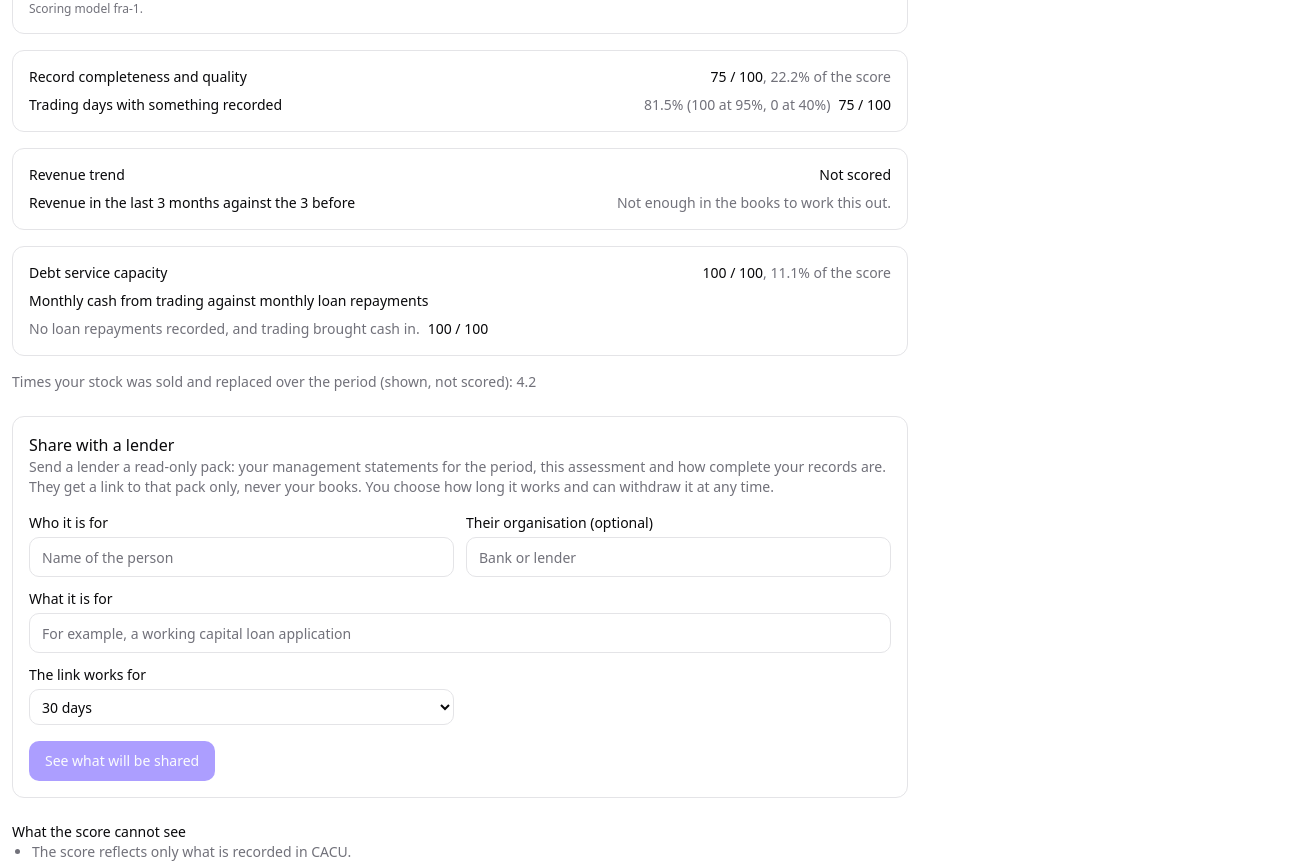
FRA-007: the owner names who and why, sees exactly what will be shared, agrees, and gets the link once
This screenshot has width=1292, height=862.
(page scrolled)
Expected: the button "See what will be shared" is disabled, x1=29 y1=741 x2=215 y2=781
Type "Amaka Obi" into the field labelled "Who it is for" at {"x": 242, "y": 557}, box x1=29 y1=537 x2=454 y2=577
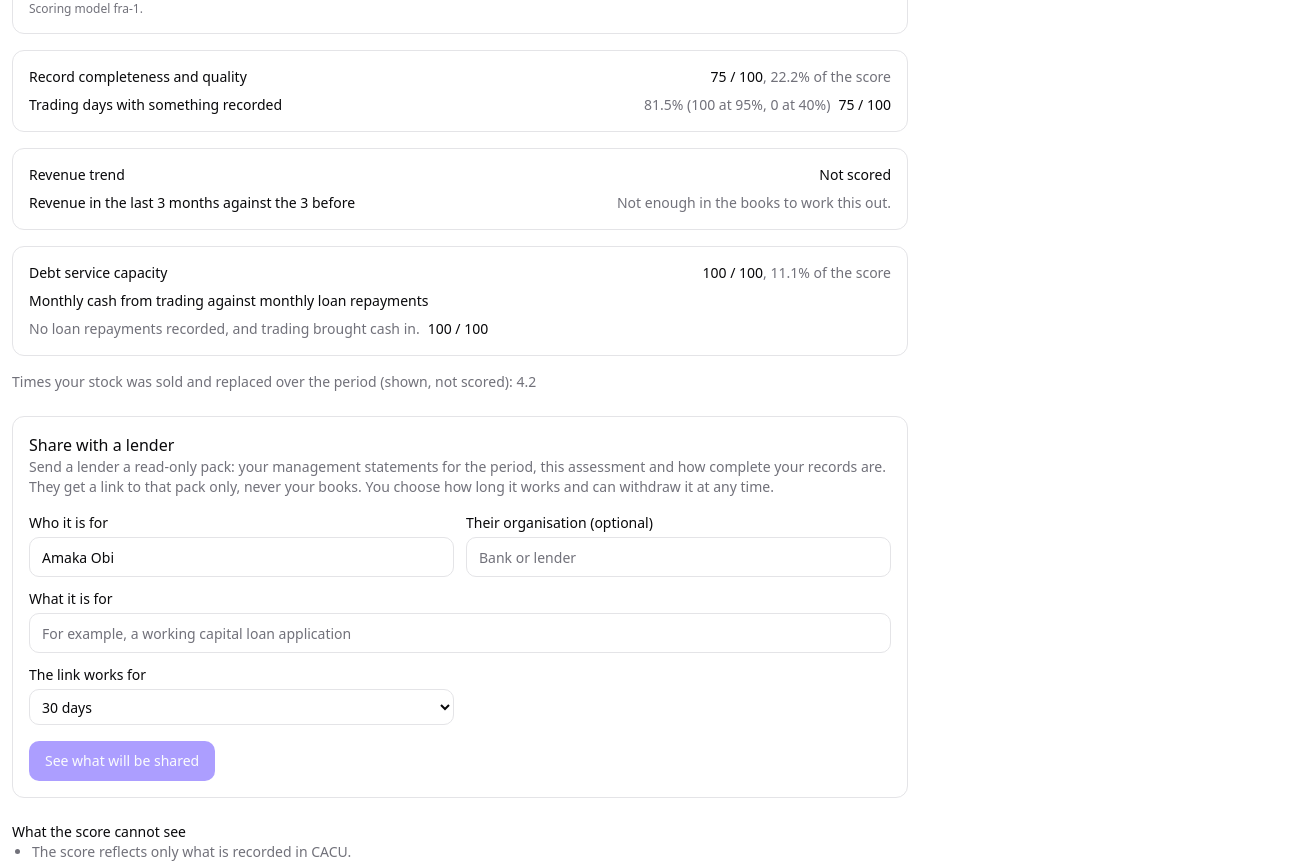
Type "Example MFB" into the field labelled "Their organisation (optional)" at {"x": 678, "y": 557}, box x1=466 y1=537 x2=891 y2=577
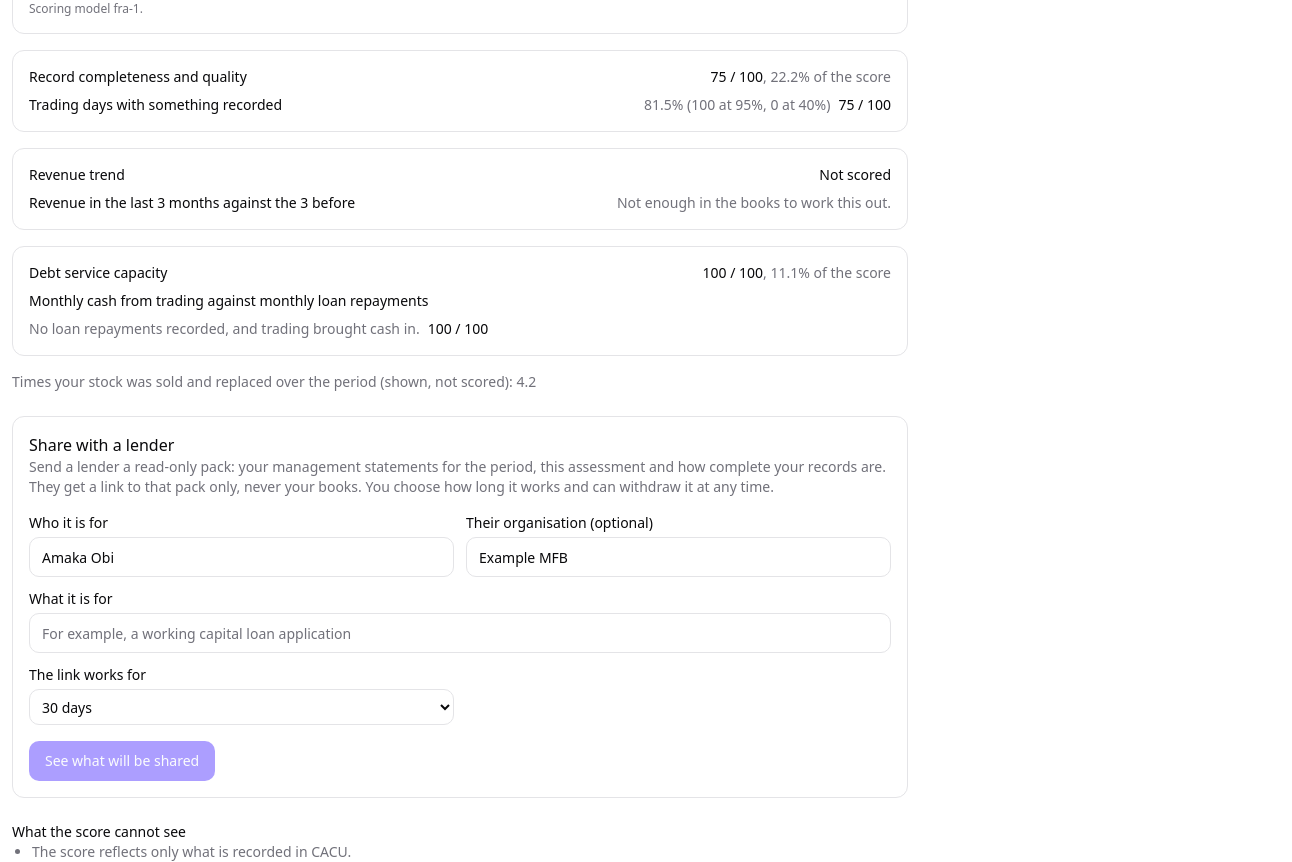
Type "Working capital loan" into the field labelled "What it is for" at {"x": 460, "y": 633}, box x1=29 y1=613 x2=891 y2=653
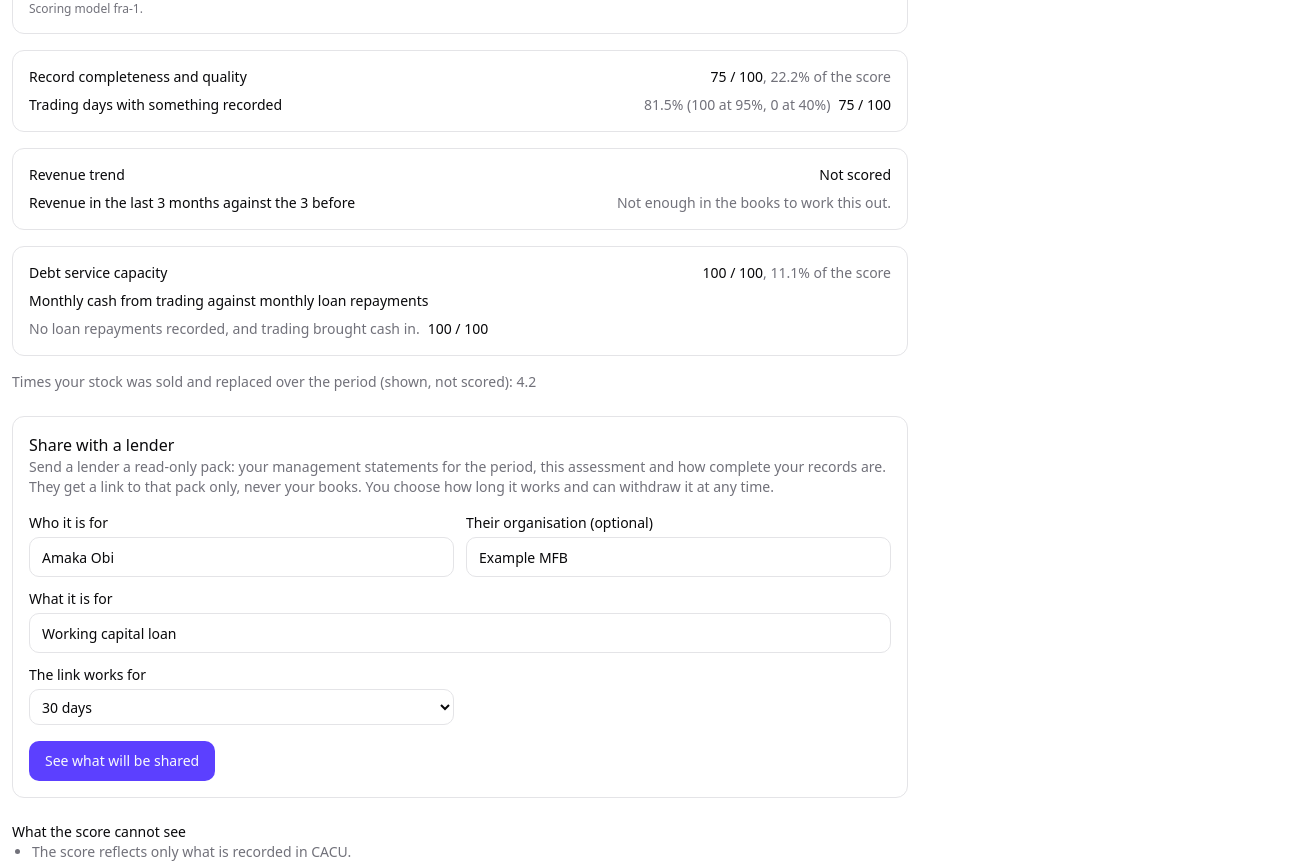
Click the button "See what will be shared" at {"x": 122, "y": 761}, box x1=29 y1=741 x2=215 y2=781
(page scrolled)
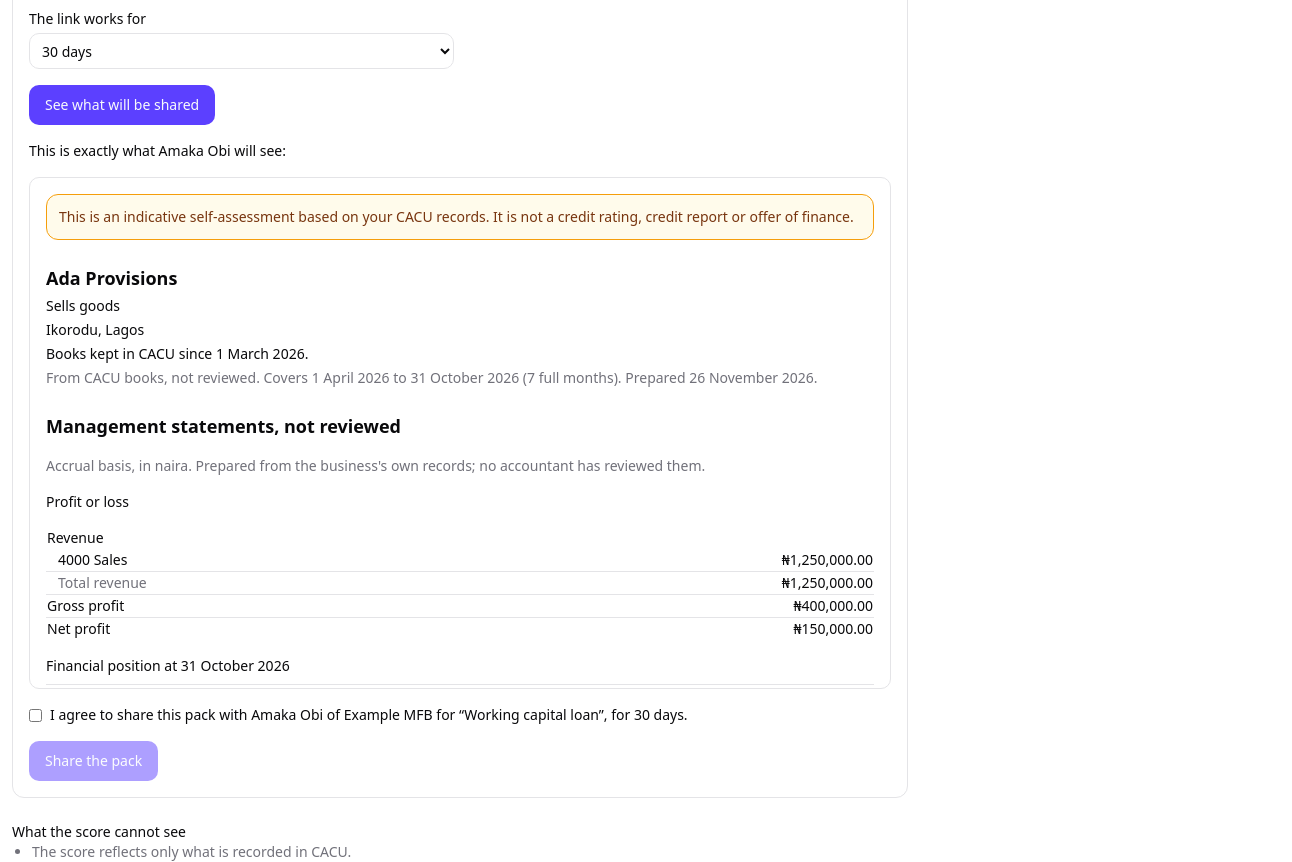
Expected: the text "This is exactly what Amaka Obi will see:" is shown, x1=29 y1=141 x2=286 y2=160
Expected: the element named "Lender pack" shows "Management statements, not reviewed", x1=46 y1=414 x2=401 y2=438
Expected: the element named "Lender pack" shows "₦1,250,000.00", x1=782 y1=550 x2=873 y2=569
Click the checkbox at {"x": 36, "y": 716}, box x1=29 y1=709 x2=42 y2=722
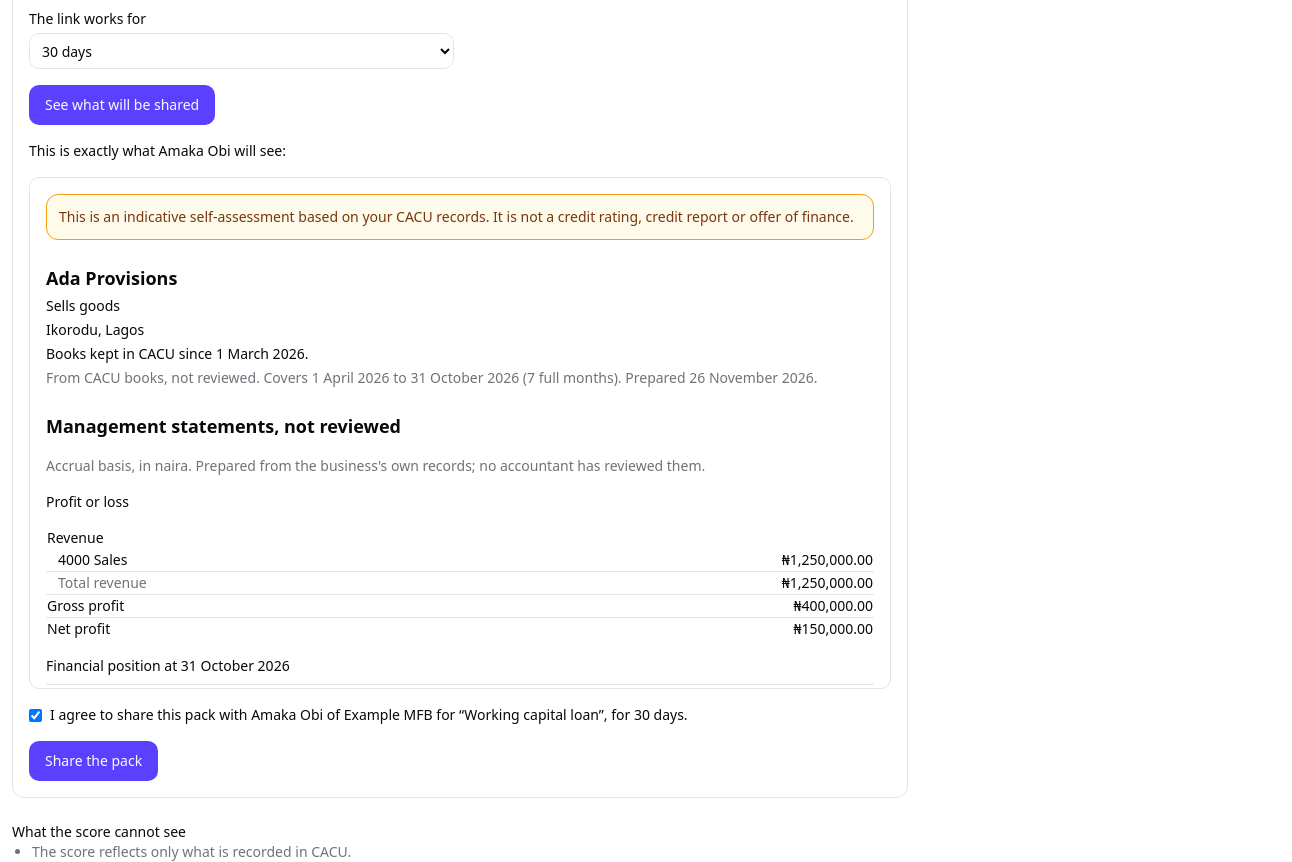
Click the button "Share the pack" at {"x": 94, "y": 761}, box x1=29 y1=741 x2=158 y2=781
(page scrolled)
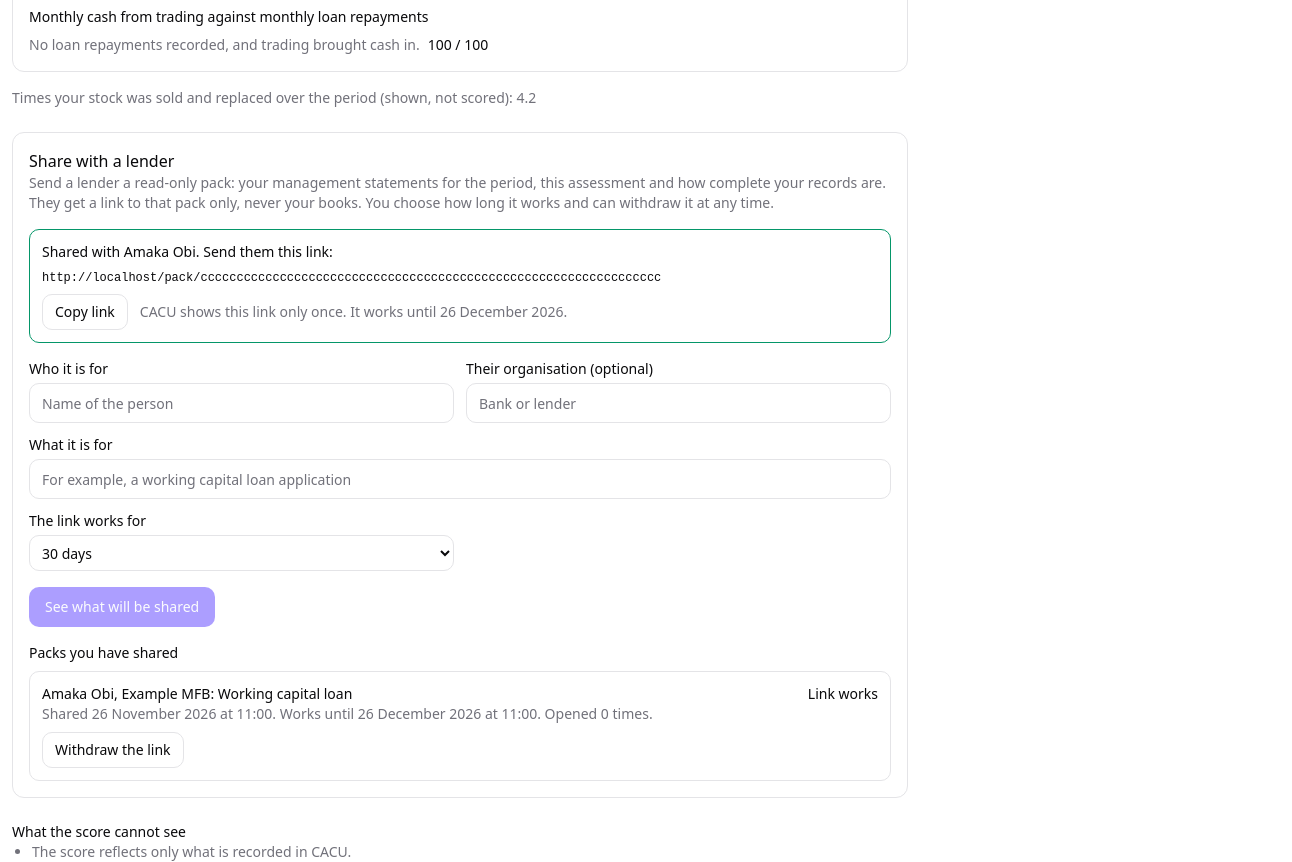
Expected: the text "CACU shows this link only once" is shown, x1=140 y1=302 x2=440 y2=321
Expected: the button "Withdraw the link" is shown, x1=42 y1=732 x2=184 y2=768
